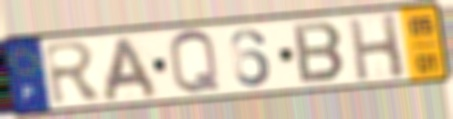6: (228, 27, 274, 89)
A: (100, 35, 162, 104)
B: (290, 20, 348, 85)
H: (345, 11, 409, 83)
Q: (165, 28, 224, 98)
R: (41, 39, 107, 107)
